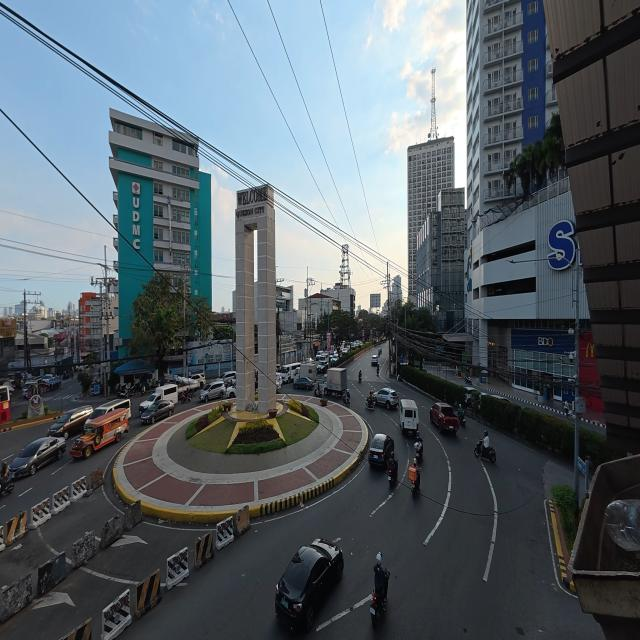Jeepneys: (70, 409, 128, 457)
bus: (0, 386, 9, 423)
car: (275, 539, 343, 630), (10, 437, 66, 477), (48, 406, 93, 439), (86, 399, 130, 424), (430, 403, 459, 433), (369, 434, 394, 466), (141, 400, 174, 424), (199, 380, 225, 402), (375, 388, 399, 408), (218, 371, 236, 386), (294, 377, 314, 390), (190, 373, 206, 388), (465, 387, 477, 403), (490, 394, 511, 403), (317, 359, 328, 374), (225, 384, 236, 398), (275, 373, 283, 391), (371, 355, 378, 366), (331, 354, 338, 363)
motorcycle: (474, 438, 496, 463), (370, 590, 384, 627), (409, 466, 421, 497), (0, 472, 14, 497), (388, 461, 397, 489), (415, 441, 423, 461), (181, 391, 192, 403), (118, 387, 129, 398), (458, 412, 466, 427), (366, 397, 375, 410), (314, 385, 322, 397), (343, 396, 350, 407), (465, 375, 472, 384), (376, 367, 380, 377), (359, 372, 361, 383)
trucks: (165, 374, 206, 393), (325, 368, 347, 395), (299, 361, 317, 381)
vans: (139, 384, 178, 413), (86, 399, 131, 423), (399, 399, 418, 435), (284, 363, 300, 383)
